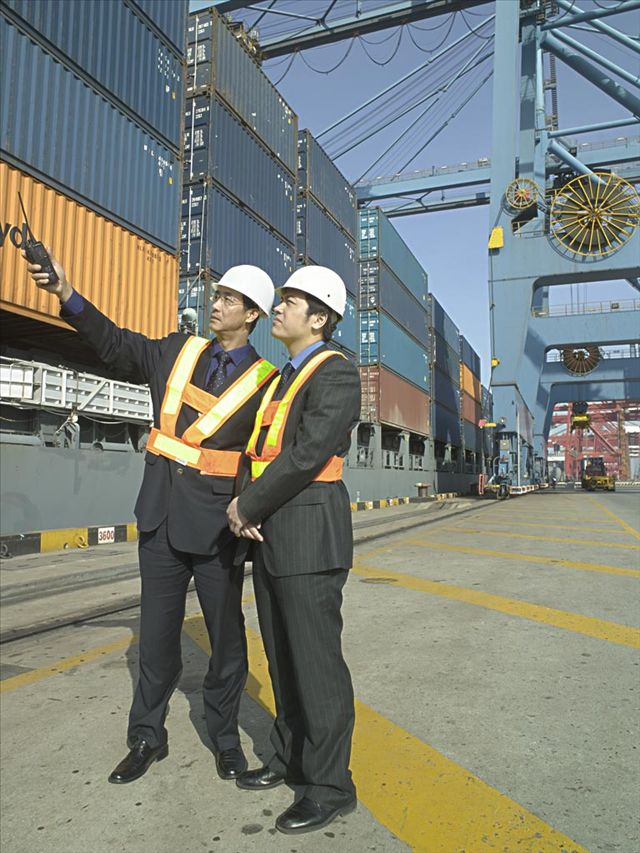boots: (275, 793, 357, 834), (107, 737, 168, 783), (235, 764, 285, 791), (216, 746, 247, 779)
hard-hat: (275, 264, 347, 319), (211, 264, 275, 318)
person: (21, 241, 282, 785), (225, 264, 361, 834)
